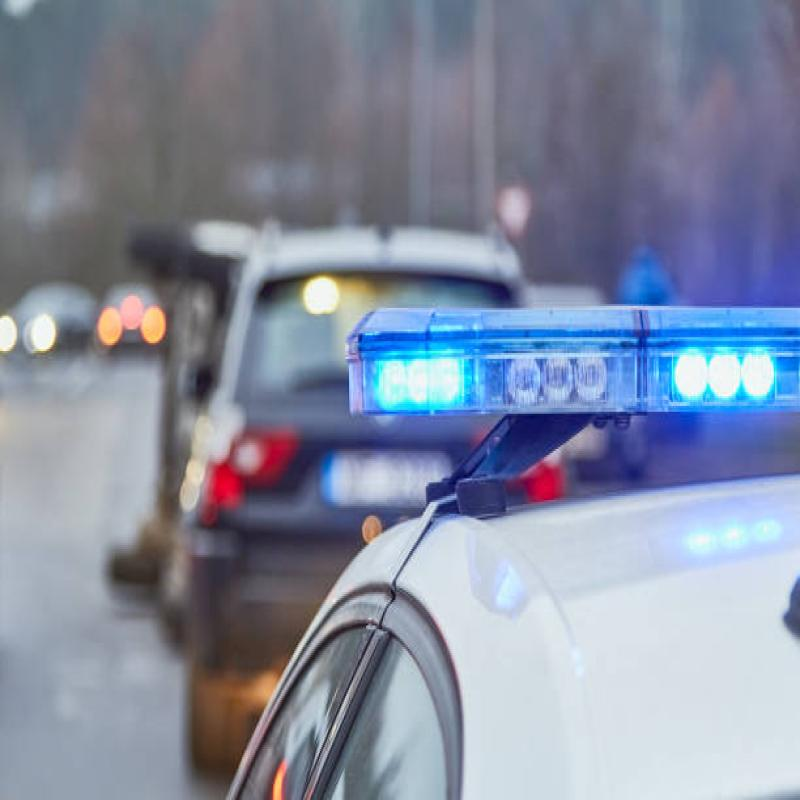AmbulanceSiren: (329, 261, 800, 488)
